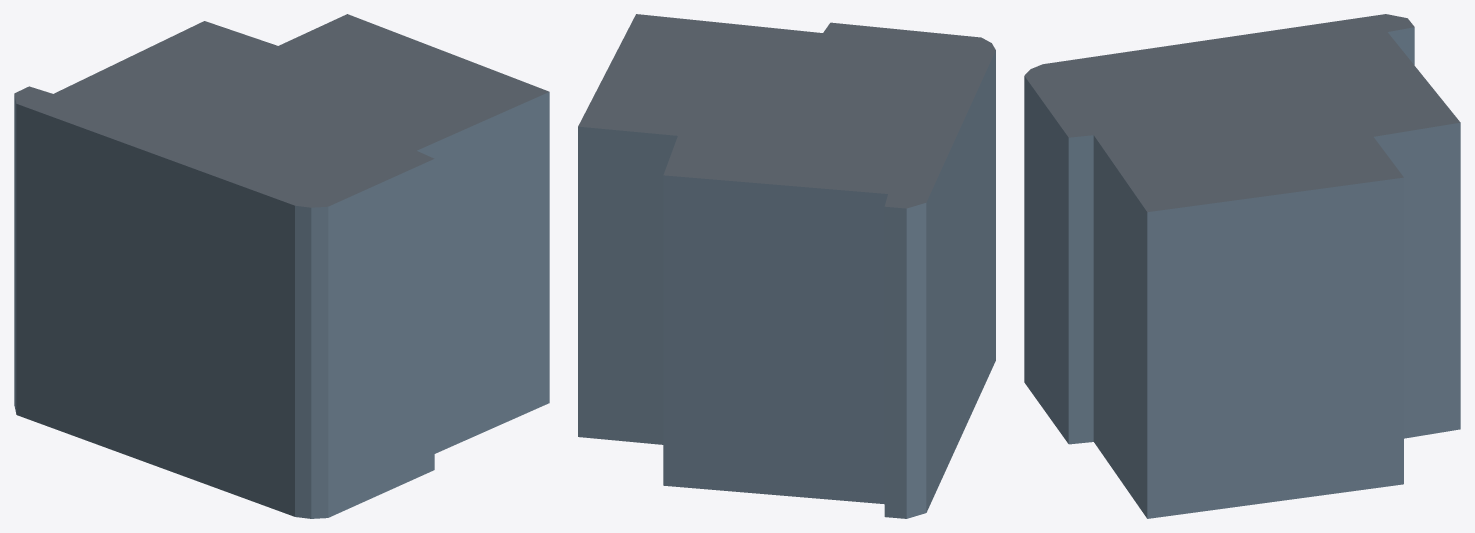
3 renders of one model, left to right at view 1: azimuth 30°, elevation 25°; view 2: azimuth 150°, elevation 25°; view 3: azimuth 270°, elevation 25°, orthographic.
Visible parts, largest first — view 1: HP-w320908499; view 2: HP-w320908499; view 3: HP-w320908499.
Boxes of the visible parts, x1,y1,x2,y2 form: HP-w320908499: (14, 14, 549, 518); HP-w320908499: (578, 14, 995, 518); HP-w320908499: (1024, 14, 1460, 518).
Size of the model in its own units: 63.19 by 45.6 by 58.79.
